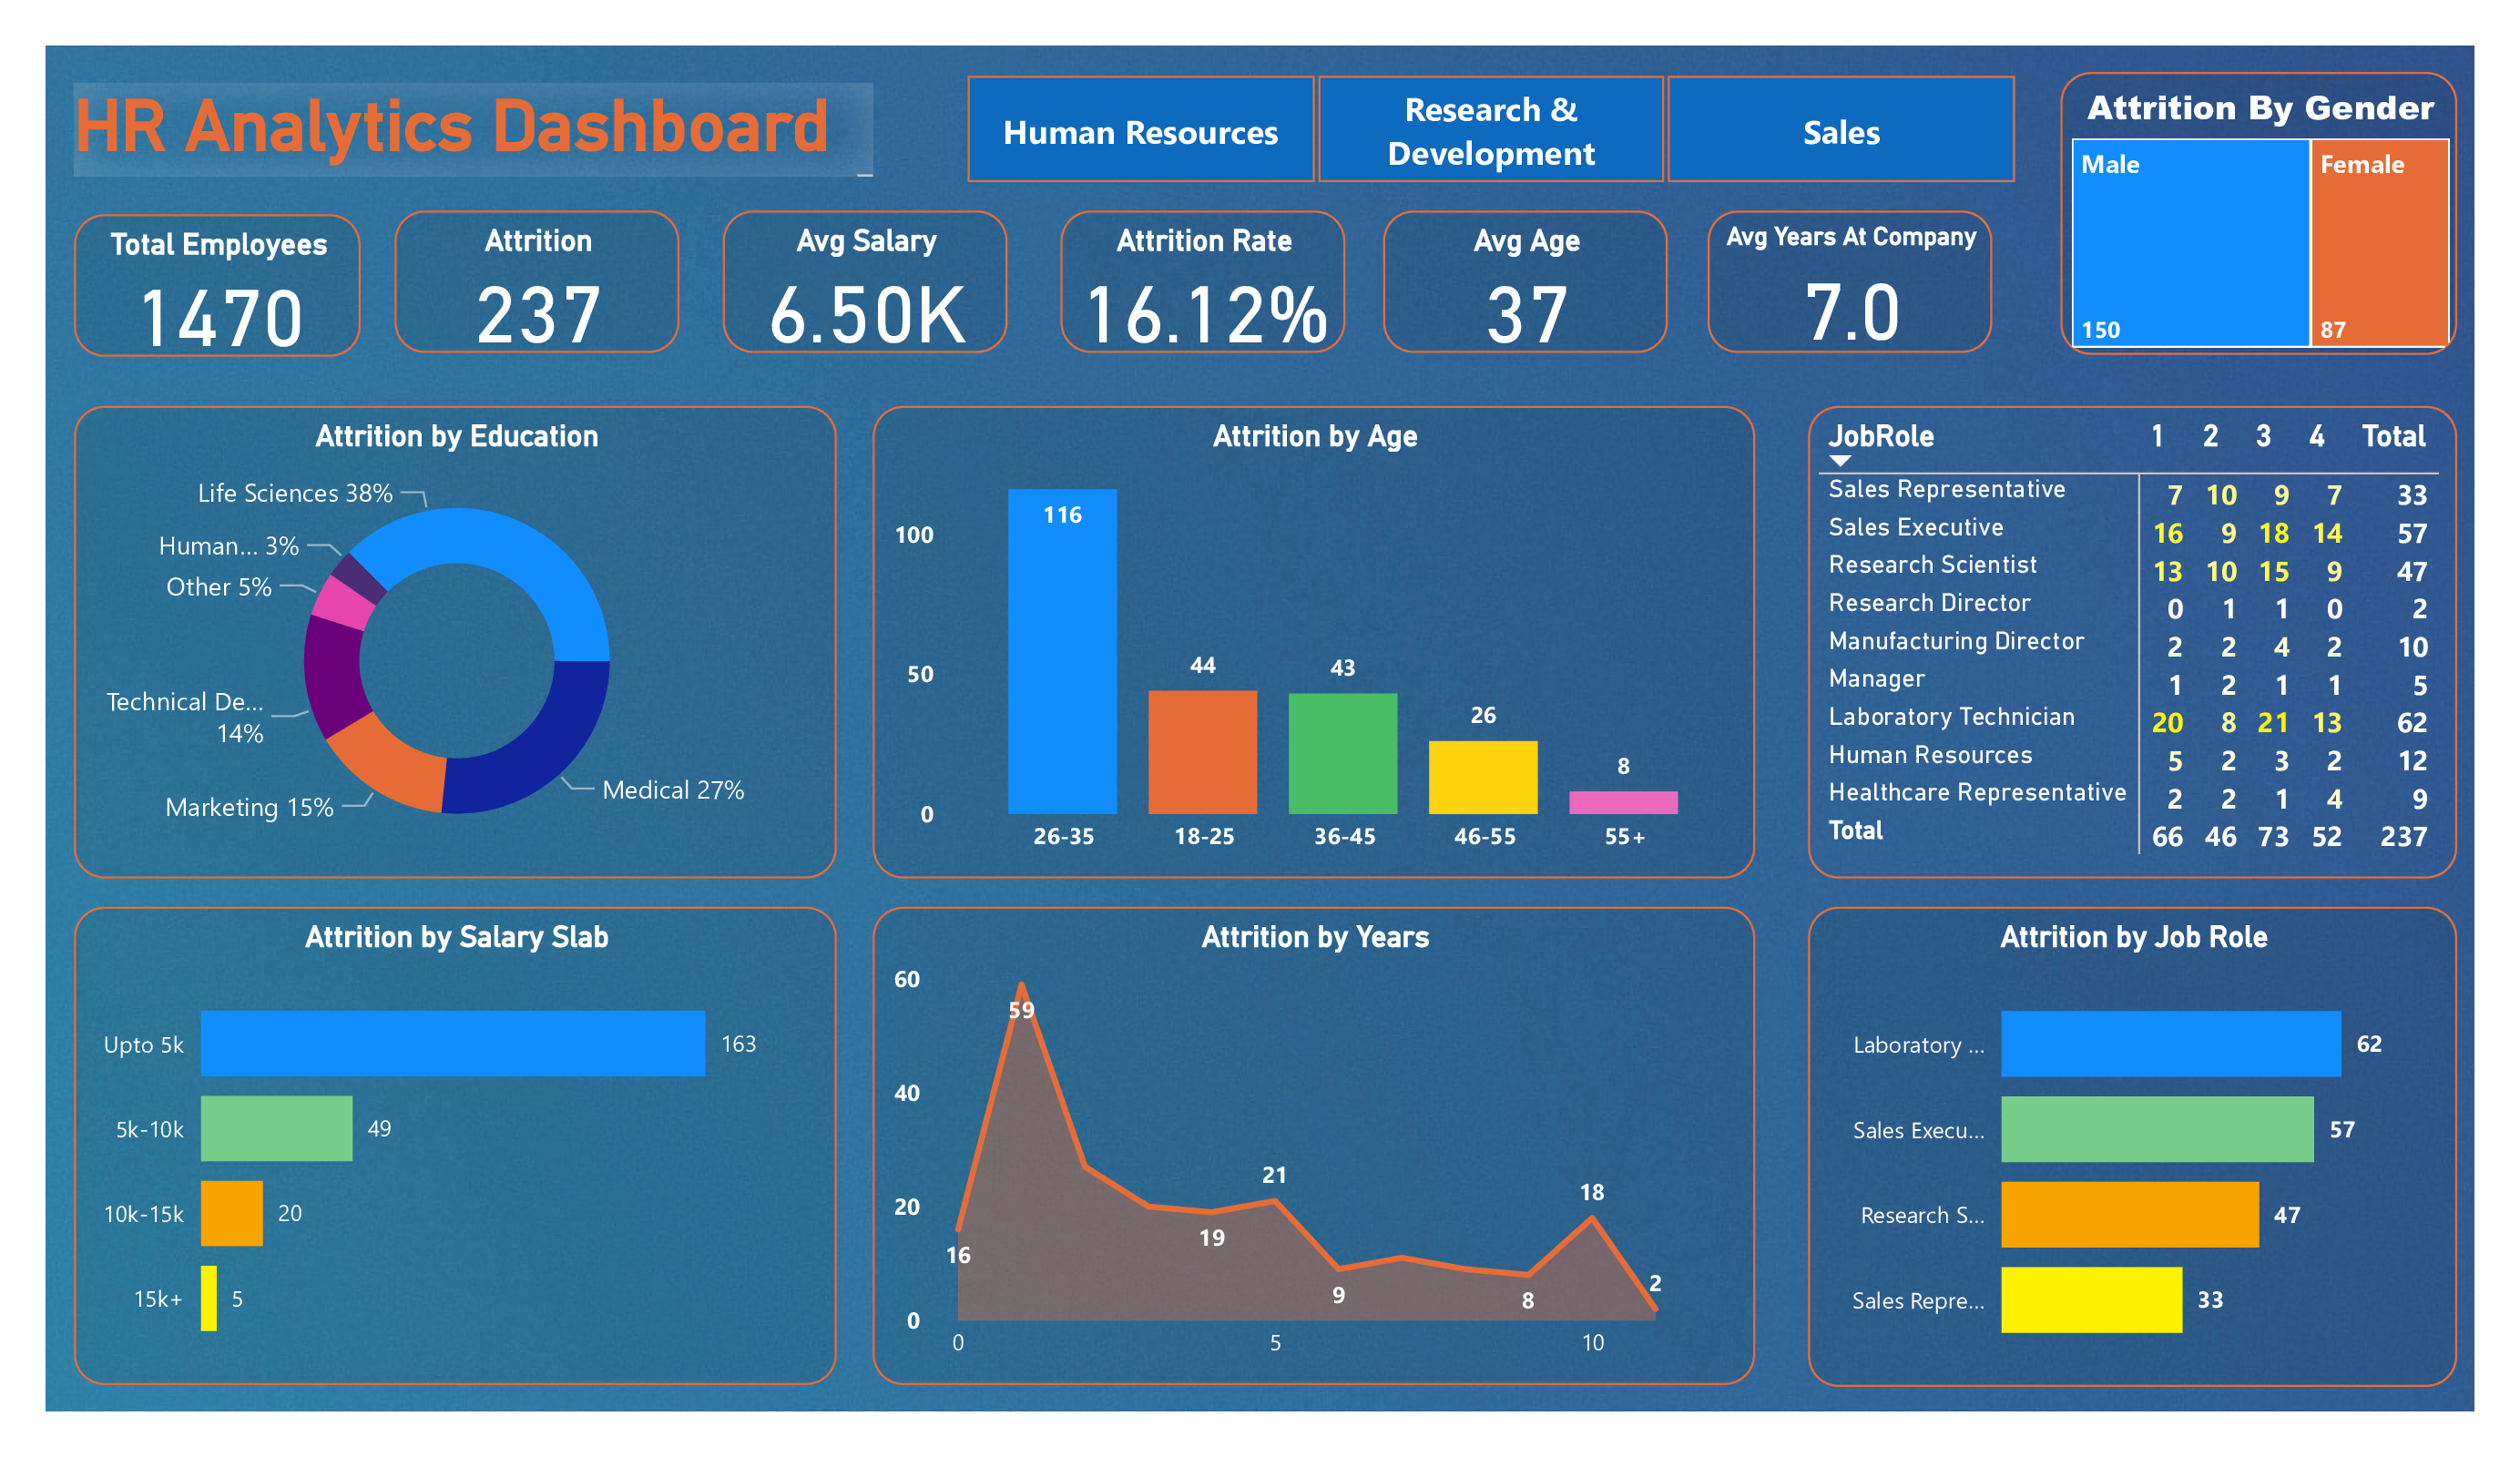

What the dashboard file says about the page in this screenshot:
{"tool":"powerbi","page":{"name":"Page 1","canvas":[1280,720],"ordinal":0},"visuals":[{"type":"textbox","title":"HR Analytics Dashboard","box":[15.3,20.4,420.7,48.4],"z":0},{"type":"slicer","fields":{"Values":["HR_Analytics.Department"]},"box":[460.2,8.9,601.8,70.1],"z":1000},{"type":"card","title":"Total Employees","fields":{"Values":["CountNonNull(HR_Analytics.EmpID)"]},"box":[15.3,89.2,150.4,75.2],"z":2000},{"type":"card","title":"Attrition","fields":{"Values":["Sum(HR_Analytics.AttritionCount)"]},"box":[183.6,86.7,150,75],"z":3000},{"type":"card","title":"Attrition Rate","fields":{"Values":["HR_Analytics.Attrition Rate"]},"box":[535.5,86.7,150,75],"z":4000},{"type":"card","title":"Avg Age","fields":{"Values":["Avg(HR_Analytics.Age)"]},"box":[705,86.7,150,75],"z":5000},{"type":"card","title":"Avg Salary","fields":{"Values":["Avg(HR_Analytics.MonthlyIncome)"]},"box":[357,86.7,150,75],"z":6000},{"type":"card","title":"Avg Years At Company","fields":{"Values":["Avg(HR_Analytics.YearsAtCompany)"]},"box":[875.9,86.7,150,75],"z":7000},{"type":"treemap","title":"Attrition By Gender","fields":{"Group":["HR_Analytics.Gender"],"Values":["Sum(HR_Analytics.AttritionCount)"]},"box":[1062.1,13.6,208.8,149.8],"z":8000},{"type":"donutChart","title":"Attrition by Education","fields":{"Category":["HR_Analytics.EducationField"],"Y":["Sum(HR_Analytics.AttritionCount)"]},"box":[15.3,190,401.6,248.6],"z":9000},{"type":"columnChart","title":"Attrition by Age","fields":{"Category":["HR_Analytics.AgeGroup"],"Y":["Sum(HR_Analytics.AttritionCount)"]},"box":[436,190,465.3,248.6],"z":10000},{"type":"pivotTable","fields":{"Rows":["HR_Analytics.JobRole"],"Columns":["HR_Analytics.JobSatisfaction"],"Values":["Sum(HR_Analytics.AttritionCount)"]},"box":[929.4,190,341.7,248.6],"z":11000},{"type":"barChart","title":"Attrition by Salary Slab","fields":{"Y":["Sum(HR_Analytics.AttritionCount)"],"Category":["HR_Analytics.SalarySlab"]},"box":[15.3,453.9,401.6,252.4],"z":12000},{"type":"areaChart","title":"Attrition by Years","fields":{"Y":["Sum(HR_Analytics.AttritionCount)"],"Category":["HR_Analytics.YearsAtCompany"]},"box":[436,453.9,465.3,252.4],"z":13000},{"type":"barChart","title":"Attrition by Job Role","fields":{"Category":["HR_Analytics.JobRole"],"Y":["Sum(HR_Analytics.AttritionCount)"]},"box":[929,453.9,341.9,252.7],"z":14000}]}

Visuals, with their boxes on the page's 1280x720 design canvas (x1, y1, x2, y2). These are canvas units, not pixel positions in the 2520x1457 screenshot, which may show the page scaled, cropped or inside an application window:
"HR Analytics Dashboard" textbox: 15,20,436,69
slicer - HR_Analytics.Department: 460,9,1062,79
"Total Employees" card: 15,89,166,164
"Attrition" card: 184,87,334,162
"Attrition Rate" card: 536,87,686,162
"Avg Age" card: 705,87,855,162
"Avg Salary" card: 357,87,507,162
"Avg Years At Company" card: 876,87,1026,162
"Attrition By Gender" treemap: 1062,14,1271,163
"Attrition by Education" donutChart: 15,190,417,439
"Attrition by Age" columnChart: 436,190,901,439
pivotTable - HR_Analytics.JobRole x HR_Analytics.JobSatisfaction: 929,190,1271,439
"Attrition by Salary Slab" barChart: 15,454,417,706
"Attrition by Years" areaChart: 436,454,901,706
"Attrition by Job Role" barChart: 929,454,1271,707
